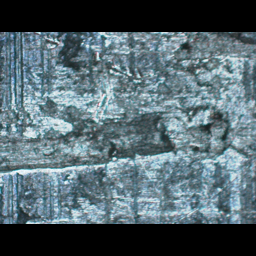d: (0, 93, 235, 182)
